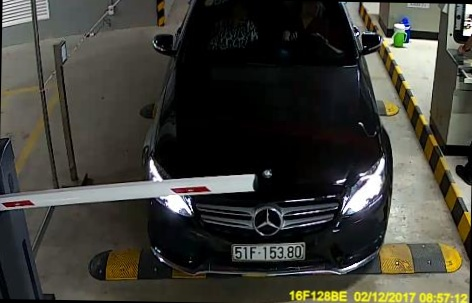plate: (221, 231, 309, 269)
